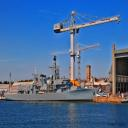Fragata: (5, 54, 102, 104)
